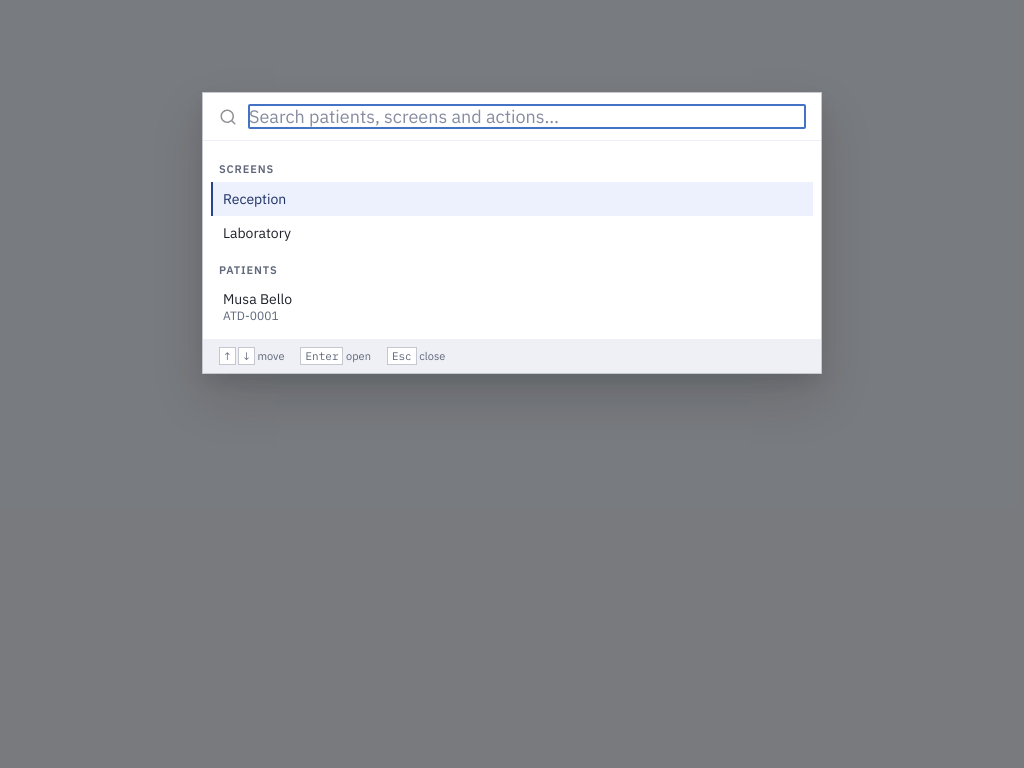
Scenario: Command palette › says so when nothing matches, rather than showing an empty box
The image size is (1024, 768).
Type "zzzzz" into the dropdown at (527, 117), box x1=249 y1=105 x2=805 y2=128
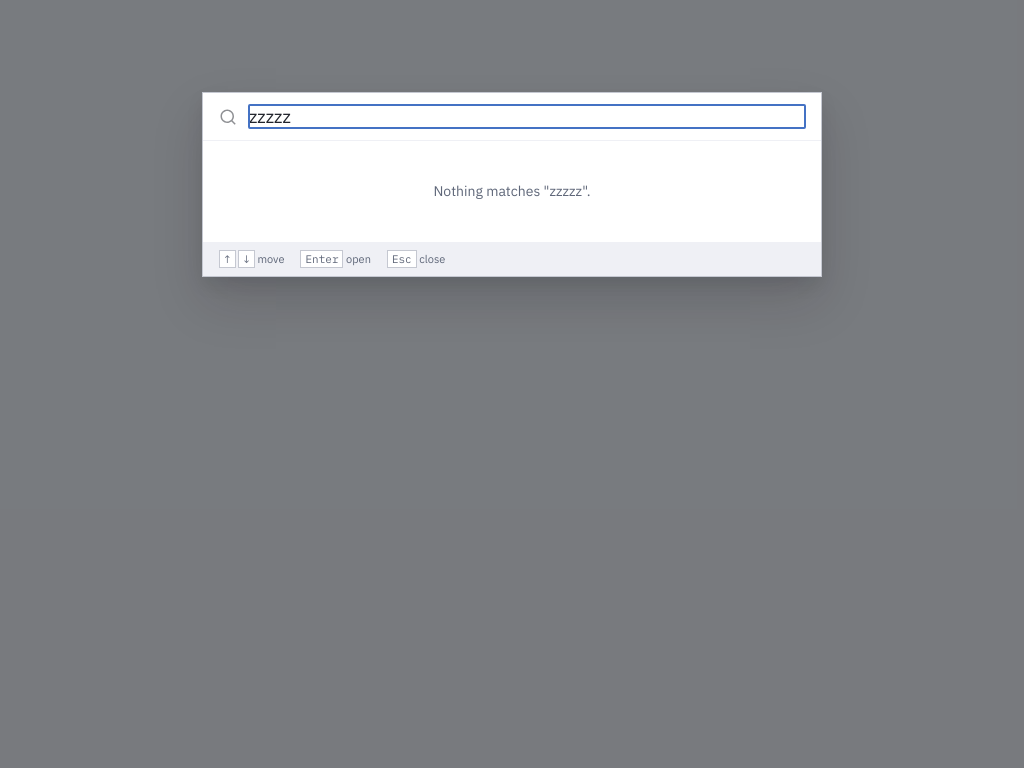
Check: the list item "Nothing matches \"zzzzz\"." is shown, box x1=433 y1=182 x2=591 y2=200
